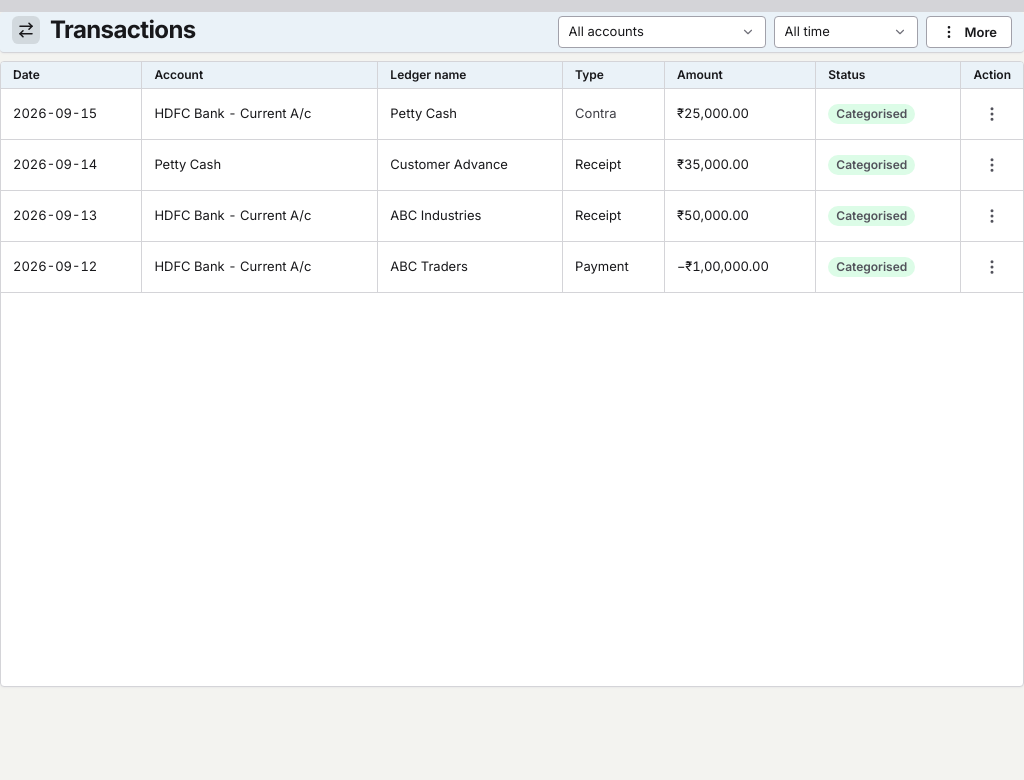
Test: the account filter › filters the rows without a totals band
Step 1. Select "Petty Cash" in the dropdown named "Account" → [662, 32], box [558,16,766,48]
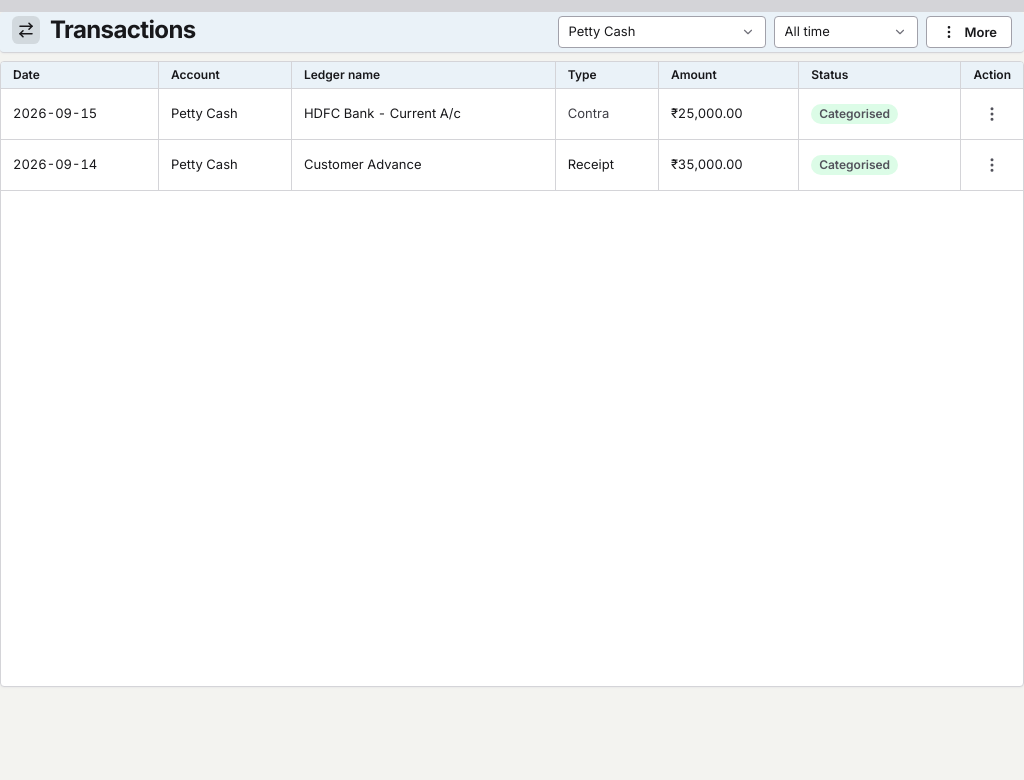
expect the text "ABC Traders" is gone: met
